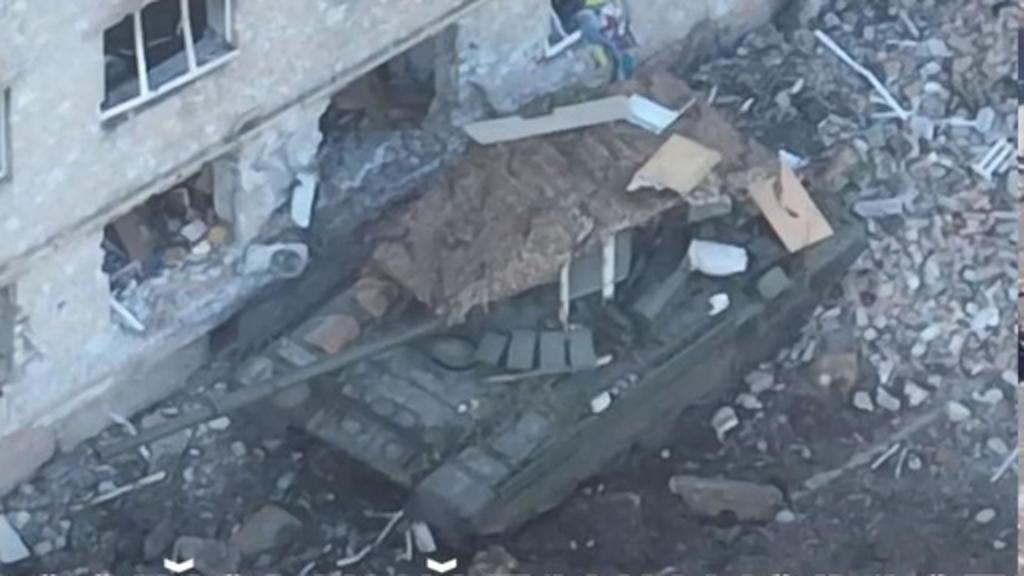TANK: (90, 56, 868, 552)
